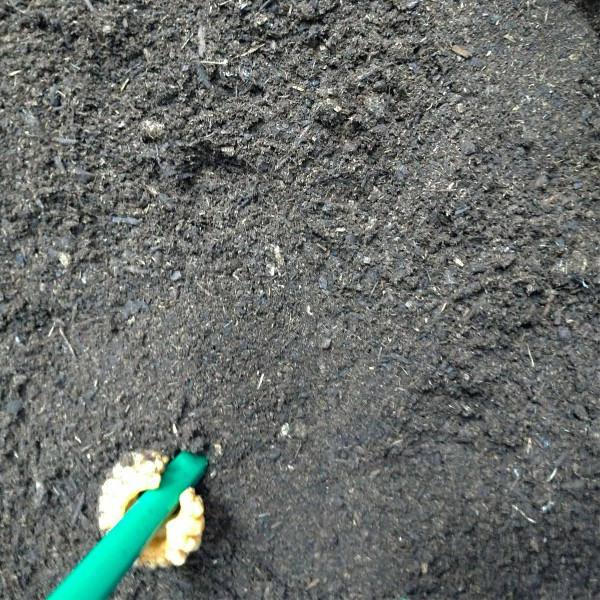eggs: (94, 449, 209, 573)
